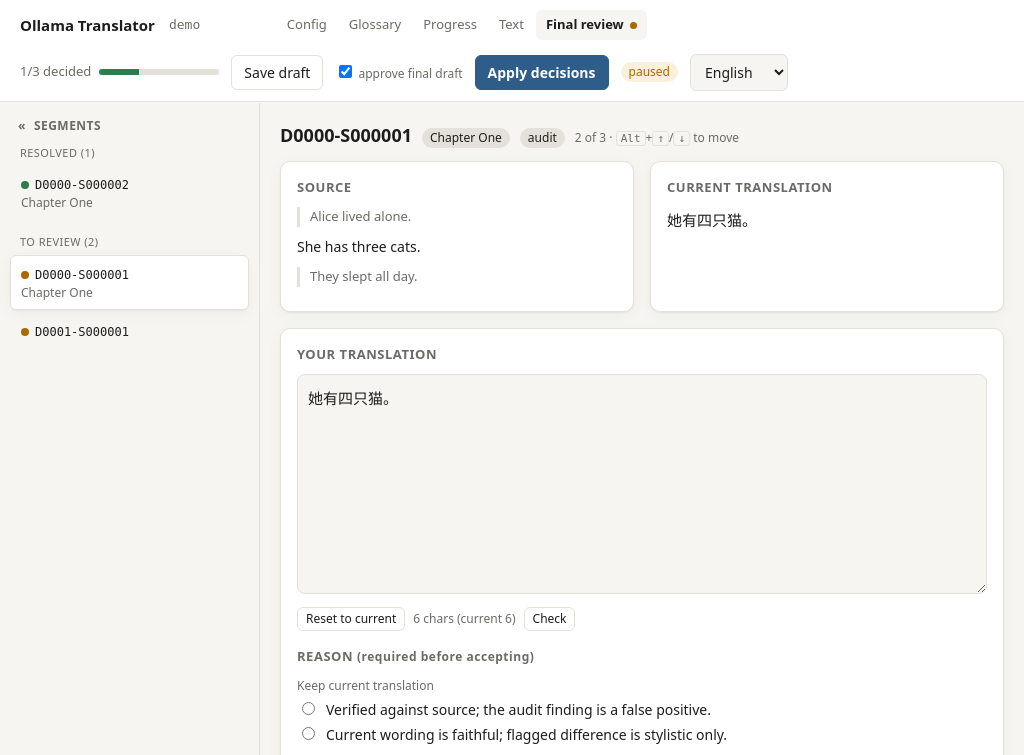
Scenario: Final review tab › editing and deciding › turns an edit into a replacement and shows what changed
The width and height of the screenshot is (1024, 755).
expect the heading "Your translation" is shown: met, box [297,344,437,362]
Replace the text in the text box with "她有三只猫。": (642, 484) [297,374,987,594]
(page scrolled)
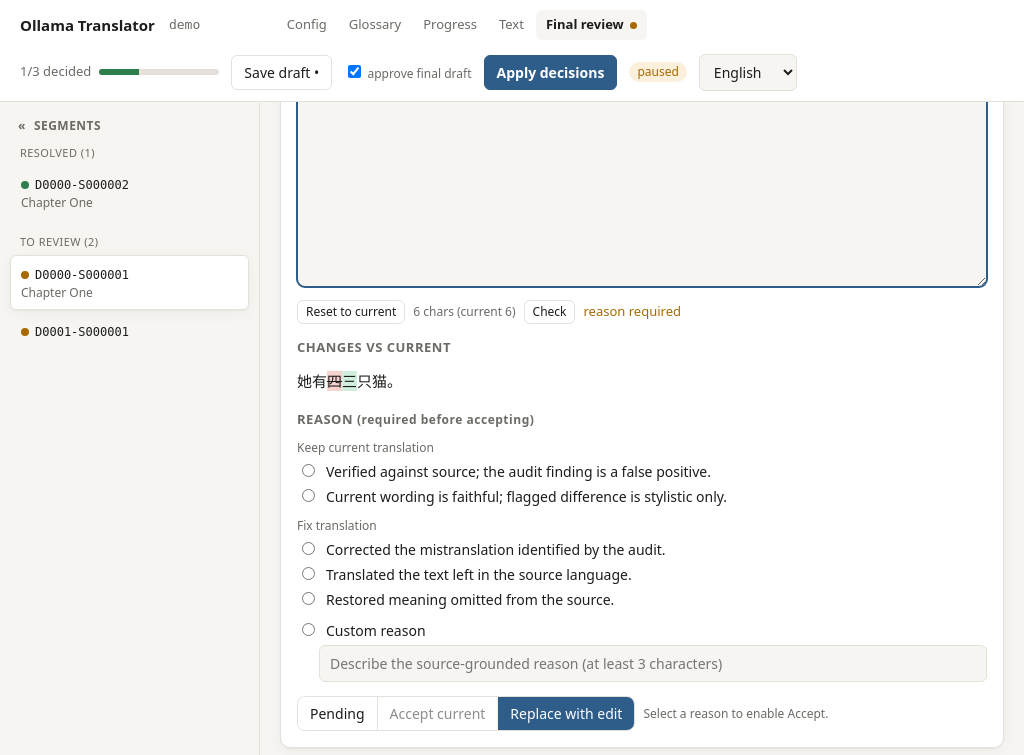
expect the element that starts with "Your translation" shows "6 chars (current 6)": met, box [413,303,516,320]
